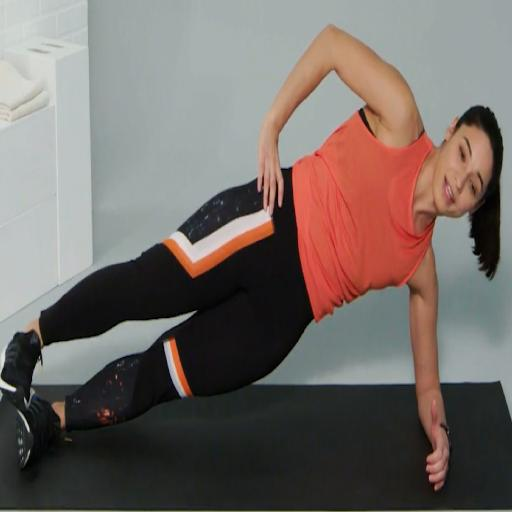Normal_Dips: (1, 0, 512, 511)
